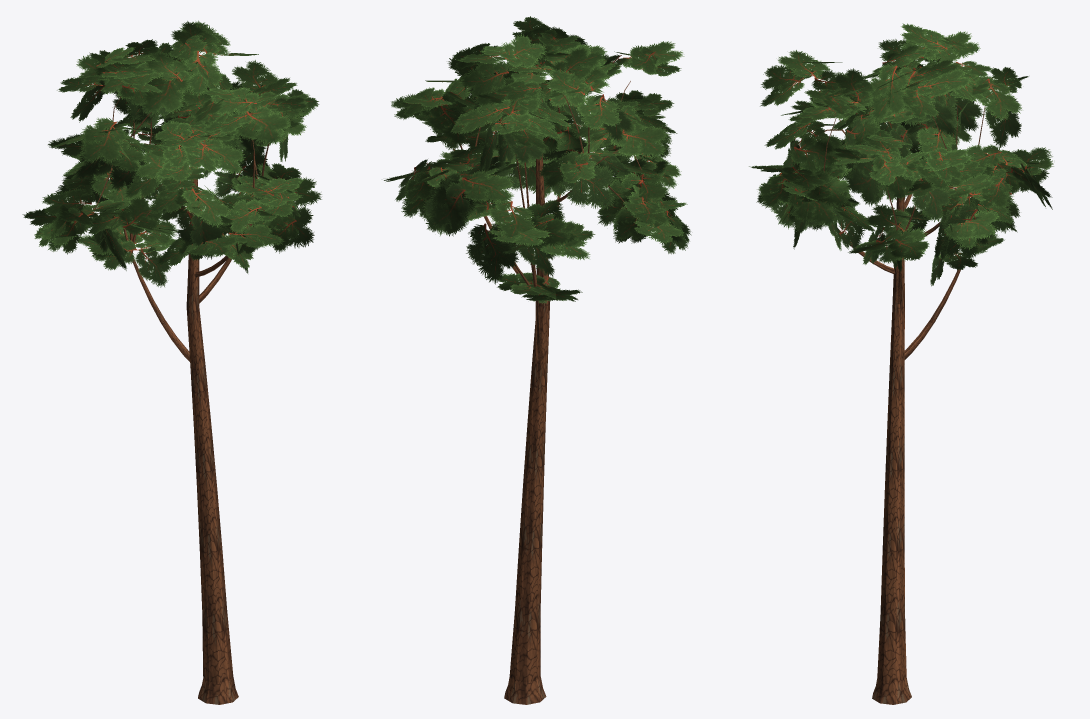
The model's file is tr_pine_b.glb.
The picture shows the model from 3 angles, left to right: view 1: azimuth 30°, elevation 25°; view 2: azimuth 150°, elevation 25°; view 3: azimuth 270°, elevation 25°; orthographic projection. The views are drawn at different scales.
Parts seen in each view (by area): view 1: body|leaves_pine, body|bark_pine; view 2: body|leaves_pine, body|bark_pine; view 3: body|leaves_pine, body|bark_pine.
Part boxes in pixels (x1,y1,x2,y2): body|leaves_pine: (22, 20, 321, 287); body|bark_pine: (93, 96, 269, 704); body|leaves_pine: (384, 16, 691, 303); body|bark_pine: (453, 78, 645, 704); body|leaves_pine: (749, 23, 1053, 286); body|bark_pine: (815, 105, 985, 704).
Size of the model in its own units: 6.96 by 14.5 by 6.96.
Materials: 2 (2 with a texture image).
